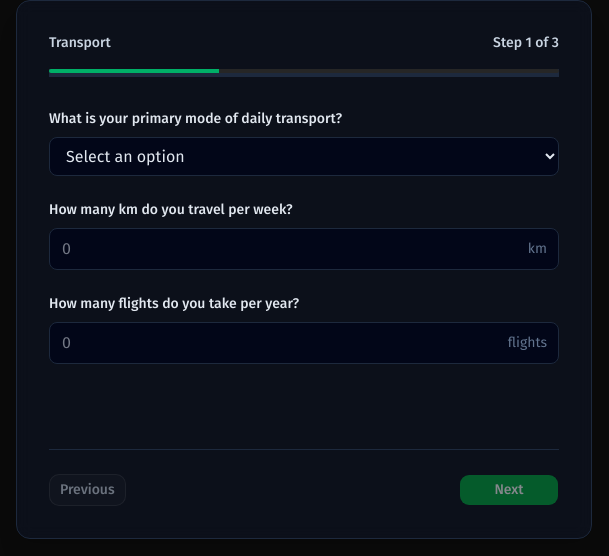
Test case: QuizStepper › Next button disabled until all questions in step are answered
Expected: the button "Next" is disabled, [459,474,559,506]
Note: Fill transport answers
Step 1. Select "Car Petrol" in the dropdown labelled "What is your primary mode of daily transport?" → (304, 156), box [49,137,559,176]
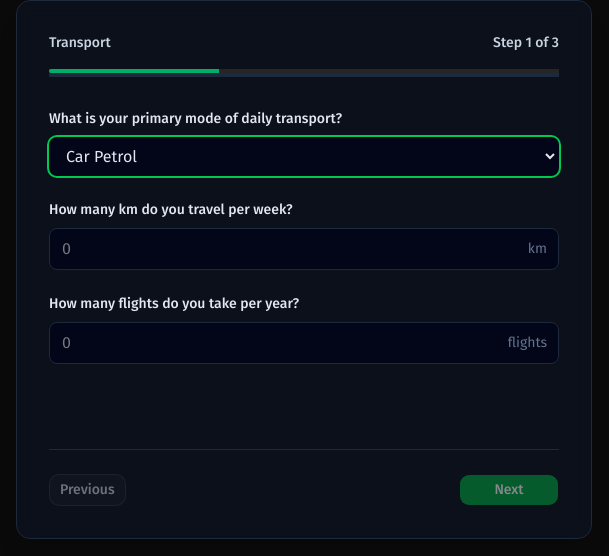
Step 2. Type "100" into the number field labelled "How many km do you travel per week?" → (304, 249), box [49,228,559,270]
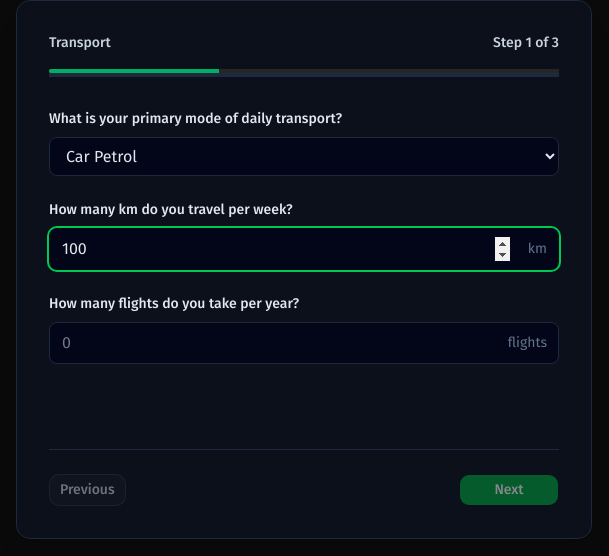
Step 3. Type "2" into the number field labelled "How many flights do you take per year?" → (304, 343), box [49,322,559,364]
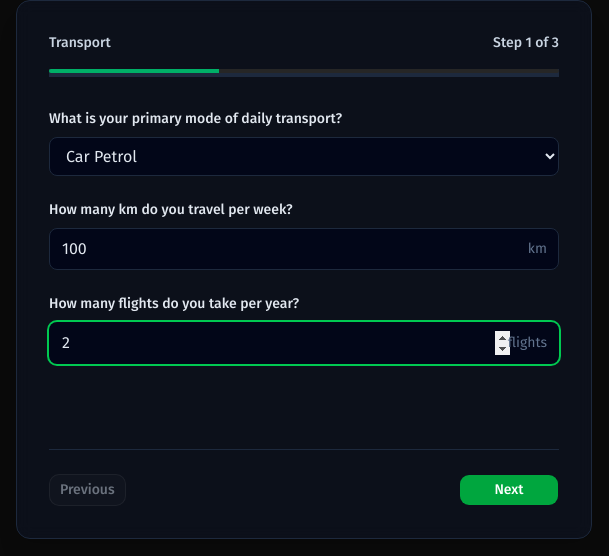
Result: the button "Next" is enabled at [459,474,559,506]
